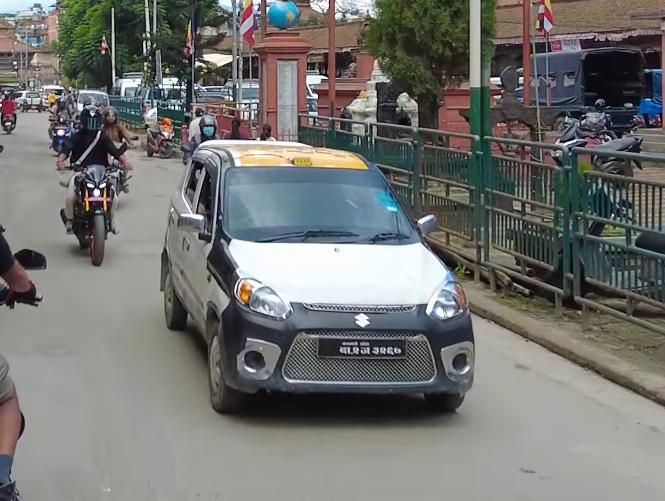bike: (54, 141, 129, 269)
scooter: (547, 119, 644, 188), (145, 114, 175, 160), (0, 106, 22, 138)
taxi: (154, 132, 479, 416)
